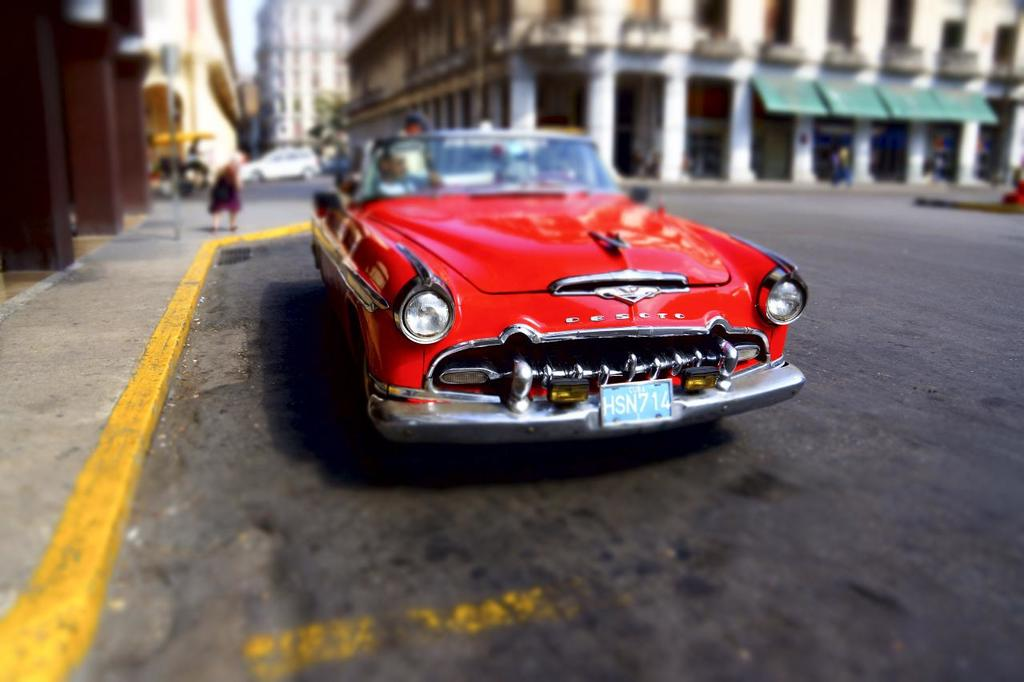Car: (311, 128, 807, 445), (233, 141, 324, 179)
